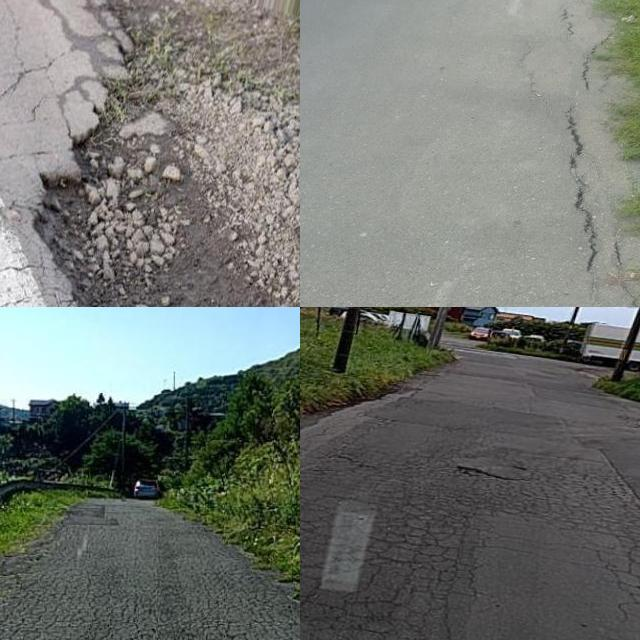Pinggir: (0, 4, 300, 307), (541, 0, 640, 307)
Retak Buaya: (300, 460, 487, 640), (0, 564, 300, 640), (540, 472, 640, 640)
